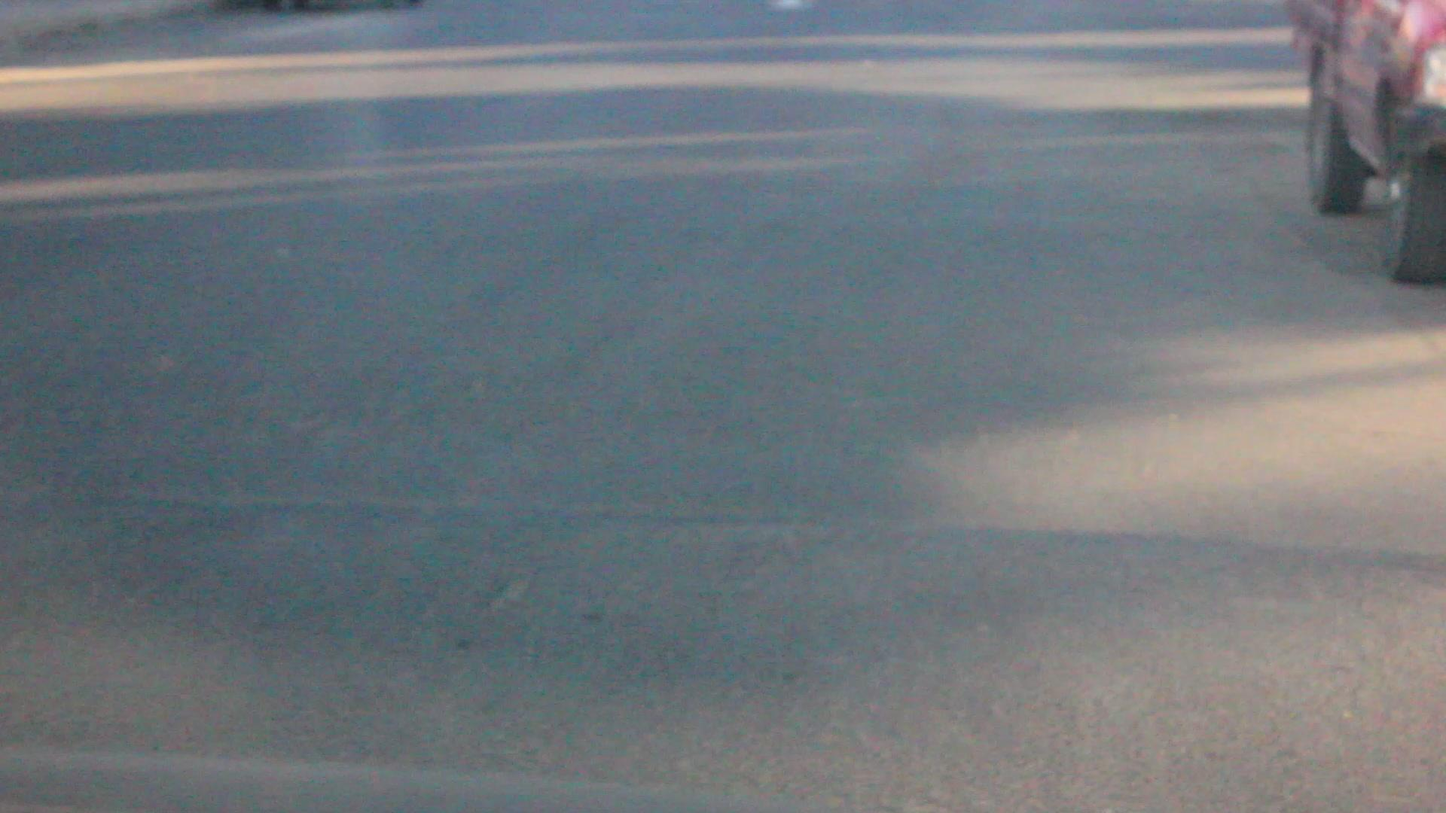Bump: (0, 494, 1445, 812)
